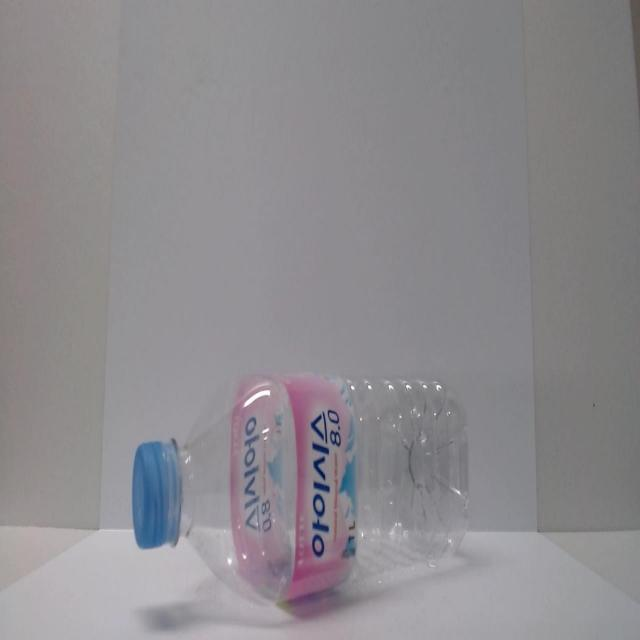bottle: (106, 351, 483, 627)
